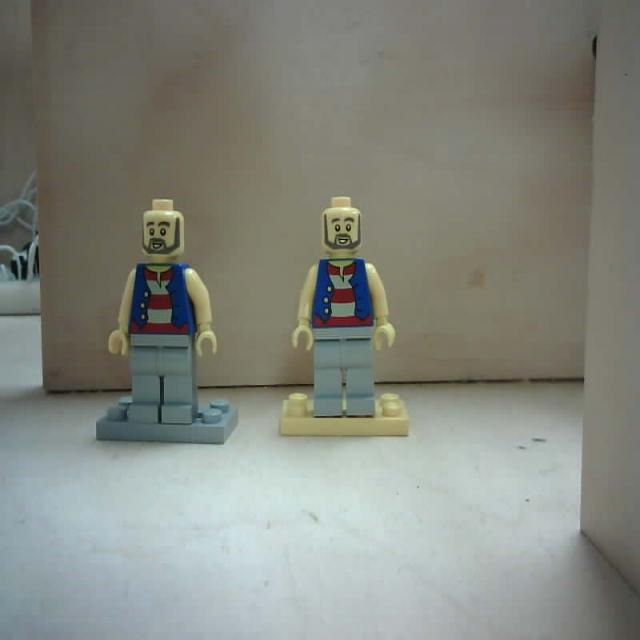Lego-People: (96, 198, 237, 448), (279, 196, 409, 438)
